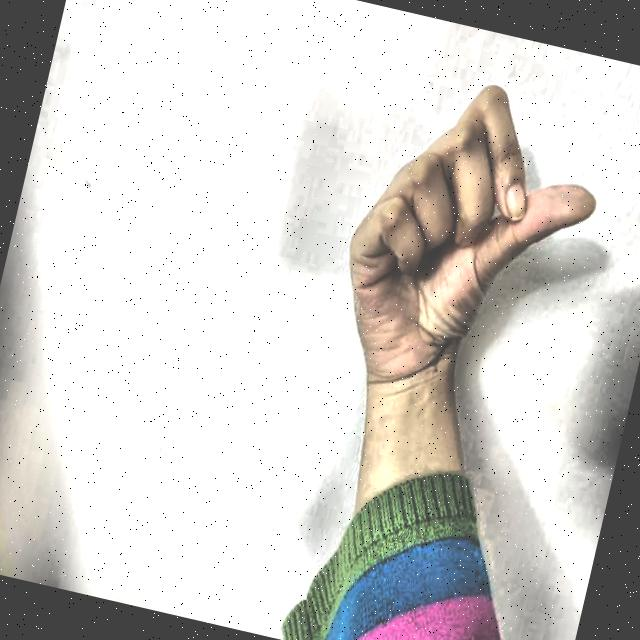Ay: (293, 27, 640, 468)
